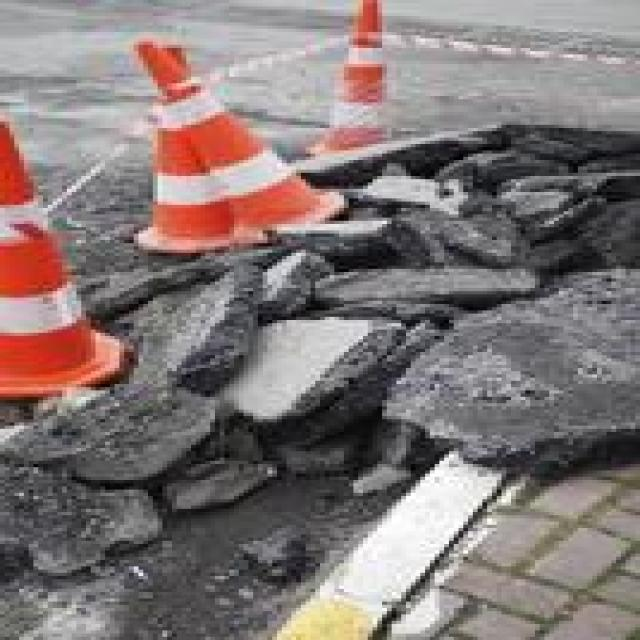road collapse: (0, 64, 640, 608)
